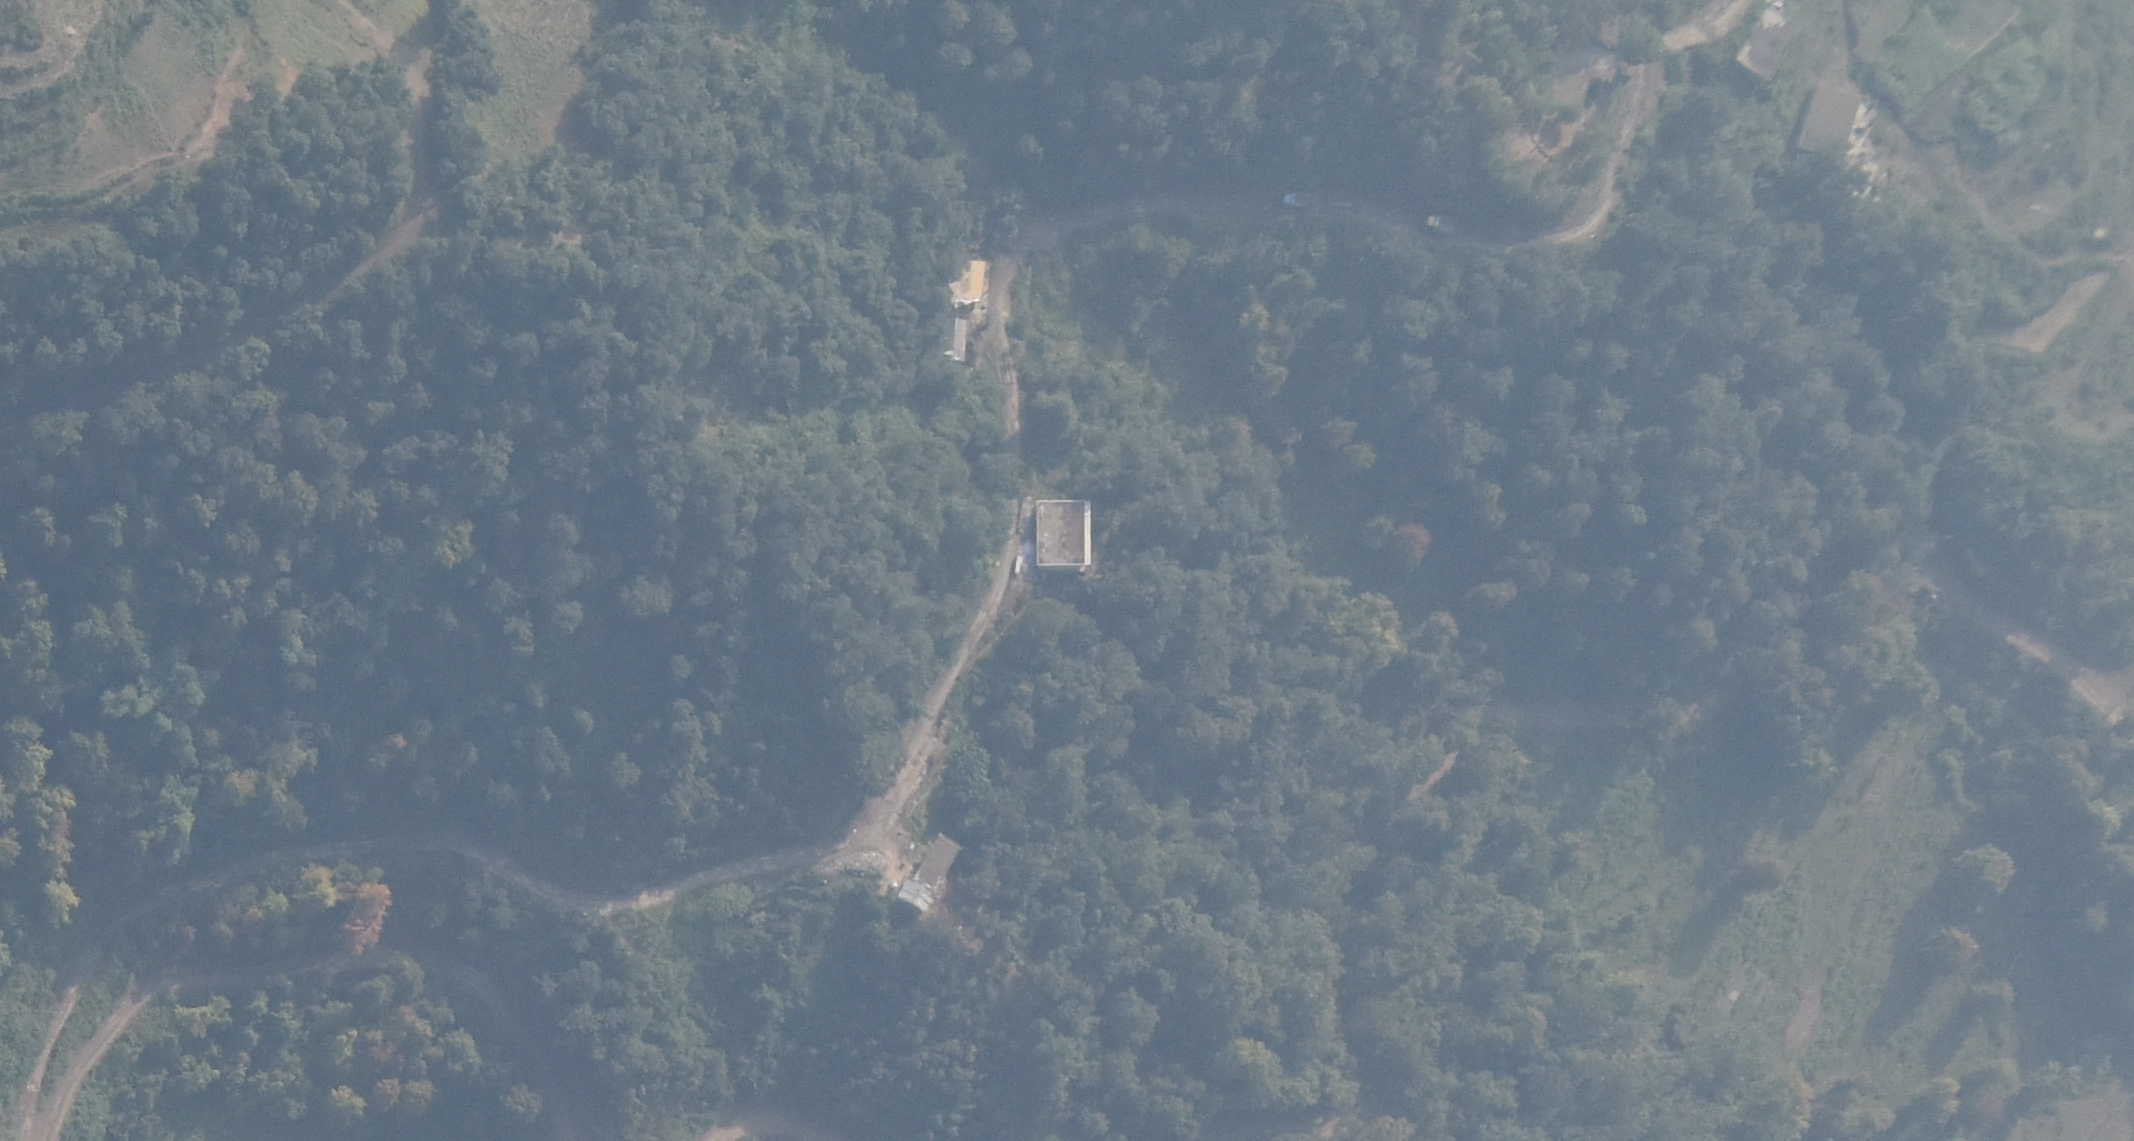building: (1729, 3, 1798, 81), (896, 831, 964, 909), (1793, 85, 1861, 159), (1035, 498, 1093, 572), (949, 258, 989, 306), (950, 316, 969, 363)
